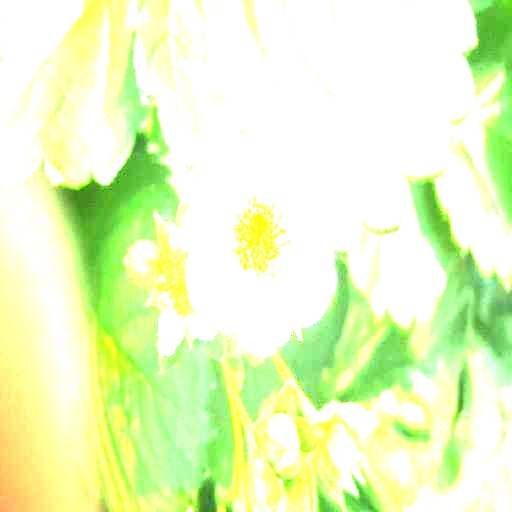Blossom Blight: (227, 192, 294, 286)
